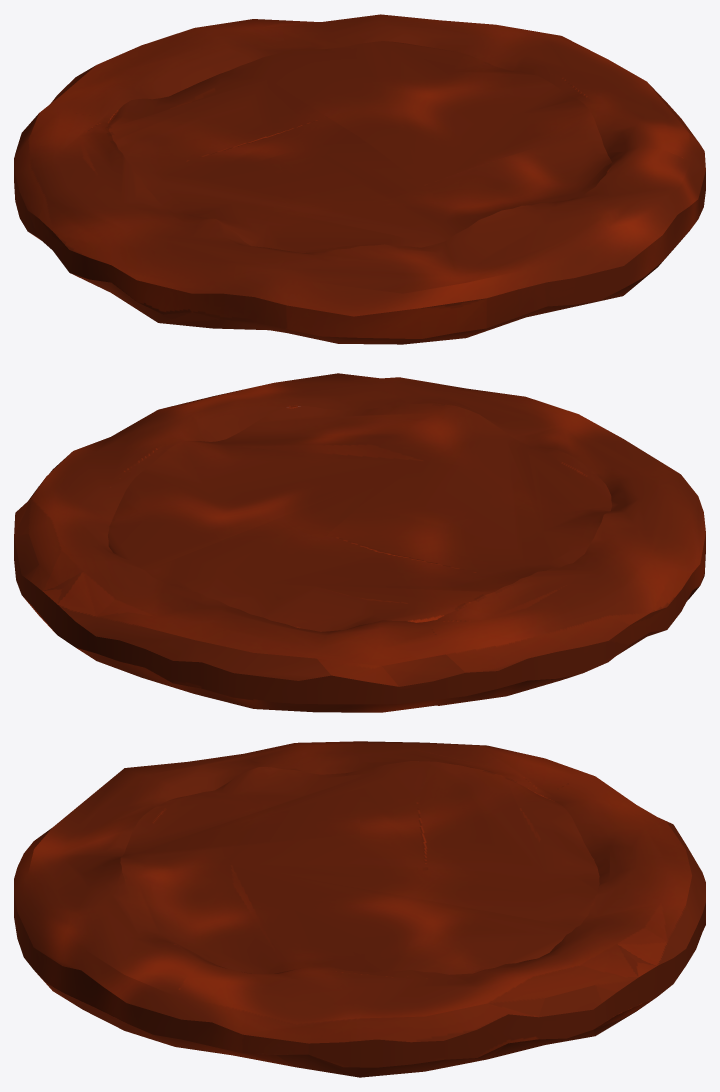
The model's file is Beef.fbx.
The picture shows the model from 3 angles, top to bottom: view 1: azimuth 30°, elevation 25°; view 2: azimuth 150°, elevation 25°; view 3: azimuth 270°, elevation 25°; orthographic projection.
Visible parts, largest first — view 1: Patty; view 2: Patty; view 3: Patty.
Part boxes in pixels (x1,y1,x2,y2): Patty: [14, 14, 705, 344]; Patty: [14, 373, 705, 712]; Patty: [14, 741, 705, 1077].
Size of the model in its own units: 22.03 by 3.34 by 22.03.
